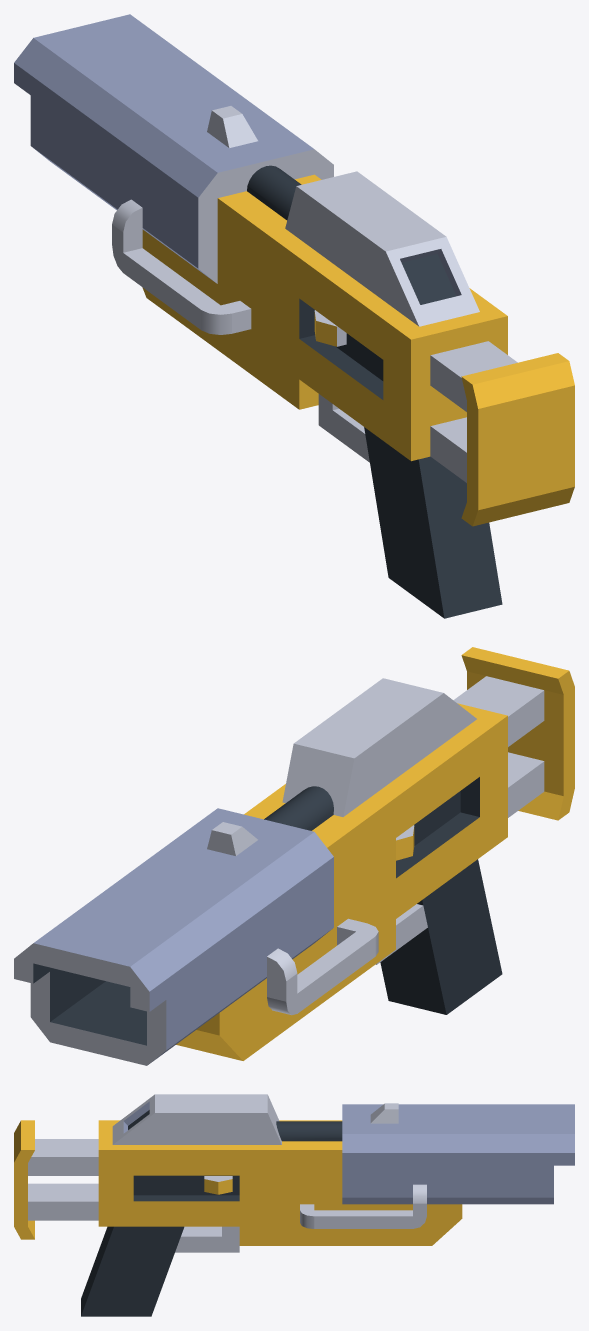
File: blasterG.dae
3 renders of one model, top to bottom at view 1: azimuth 30°, elevation 25°; view 2: azimuth 150°, elevation 25°; view 3: azimuth 270°, elevation 25°, orthographic. The views are drawn at different scales.
Visible parts, largest first — view 1: blasterG; view 2: blasterG; view 3: blasterG.
Part boxes in pixels (left/top/right/bottom): blasterG: left=14, top=14, right=574, bottom=618; blasterG: left=14, top=647, right=574, bottom=1065; blasterG: left=14, top=1094, right=574, bottom=1316.
Size of the model in its own units: 0.18 by 0.32 by 0.7959.
